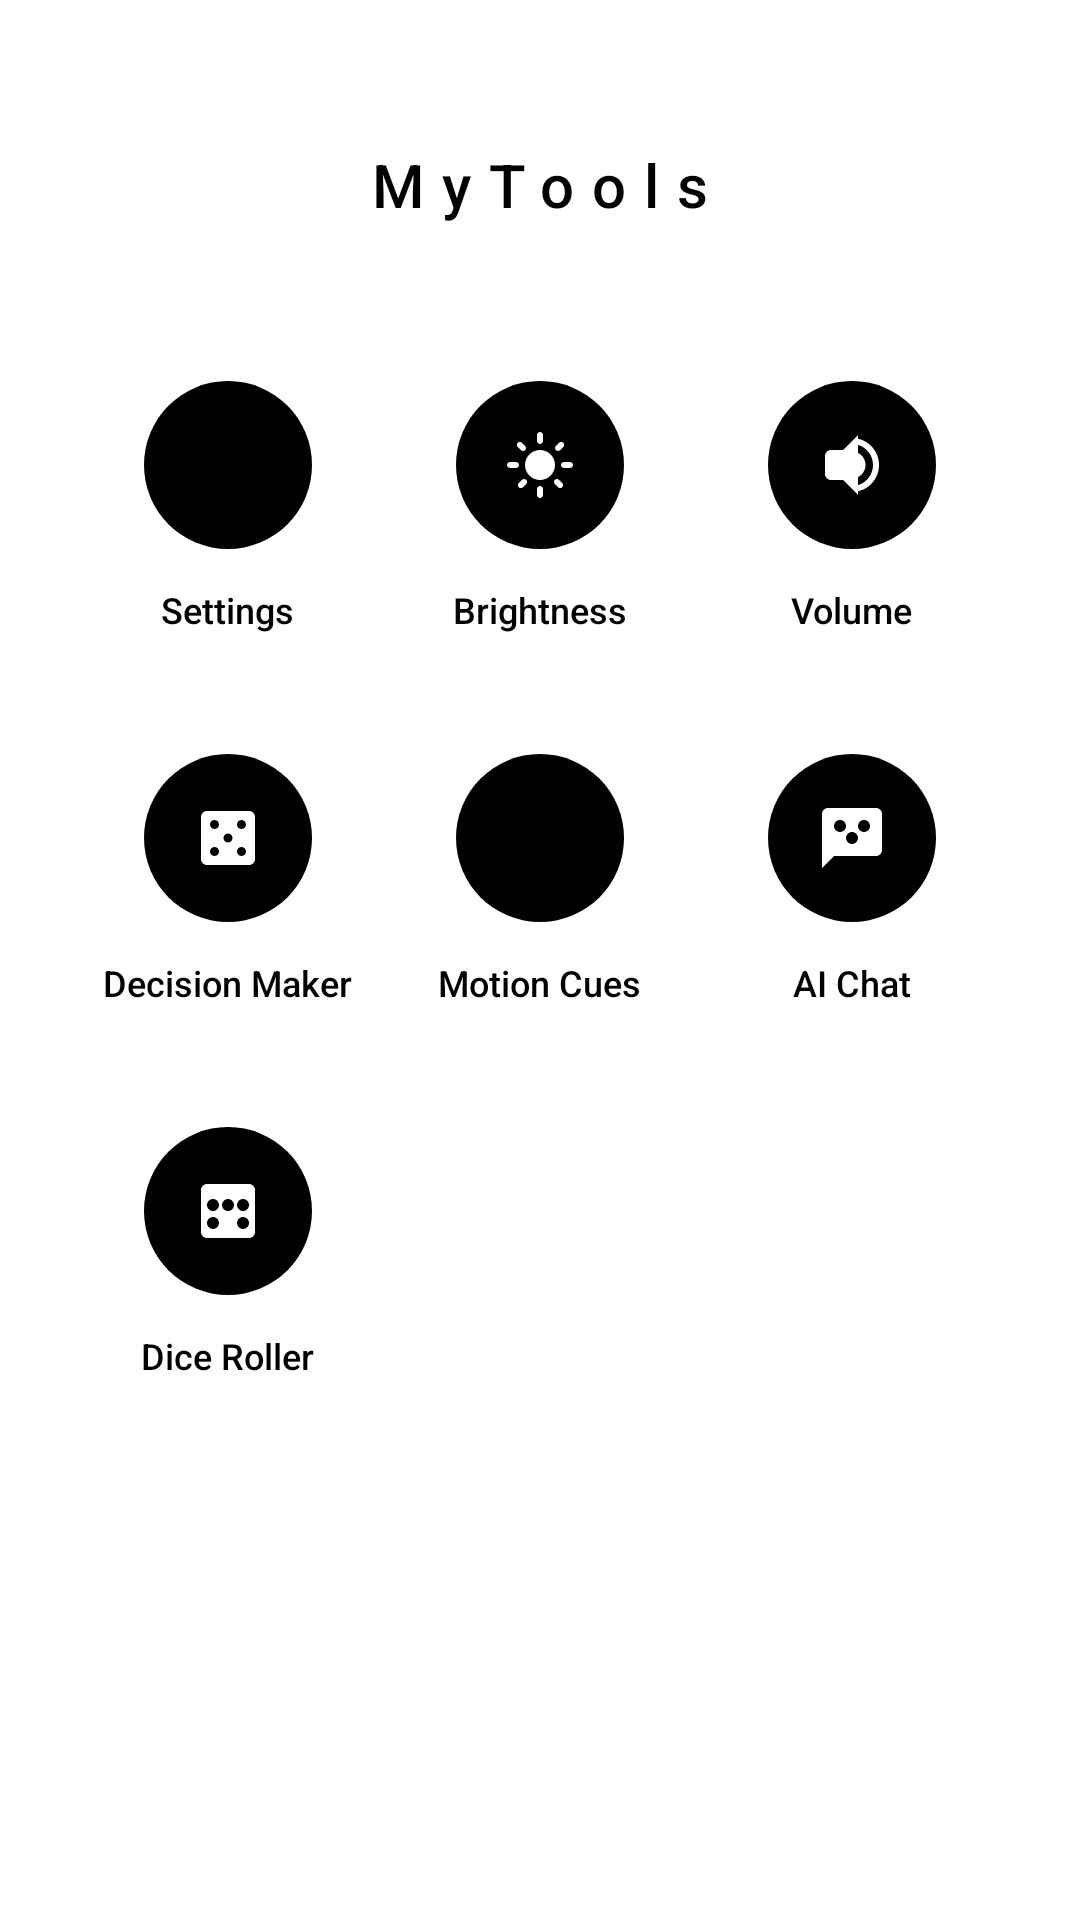

Icon click points for this 1080 × 1920 phone screenshot, format (x,y):
random: (228,838)
